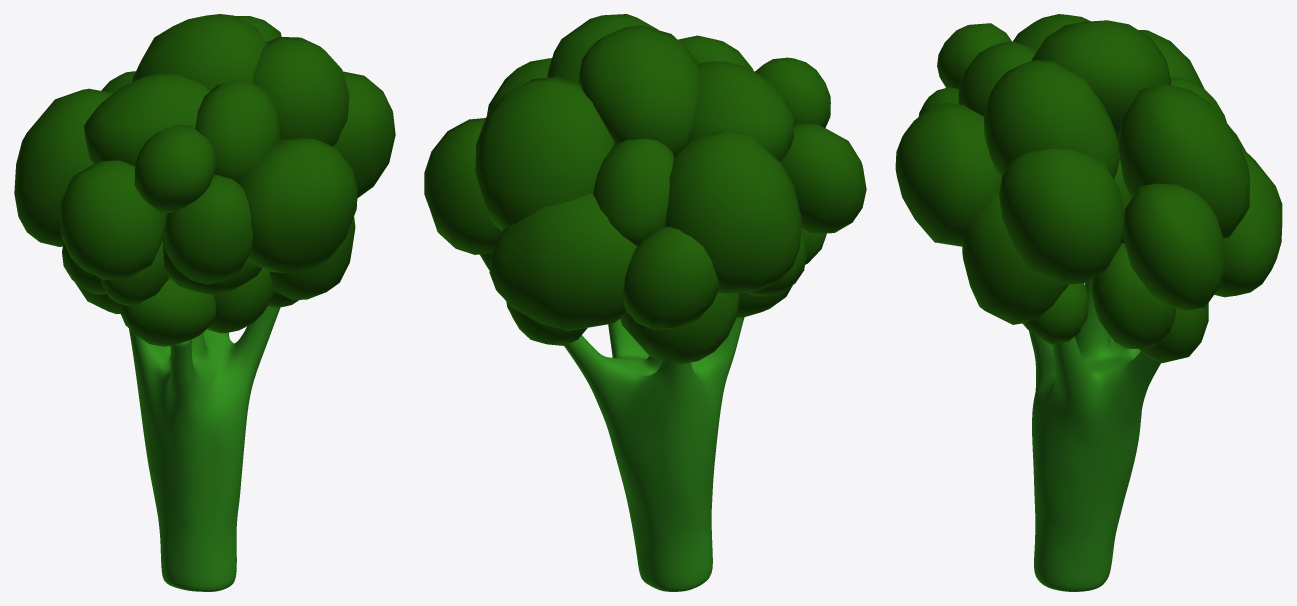
Rendered from Brócolis.gltf.
The picture shows the model from 3 angles, left to right: view 1: azimuth 30°, elevation 25°; view 2: azimuth 150°, elevation 25°; view 3: azimuth 270°, elevation 25°; orthographic projection. The views are drawn at different scales.
Visible parts, largest first — view 1: Roundcube.001, Circle; view 2: Roundcube.001, Circle; view 3: Roundcube.001, Circle.
Part boxes in pixels (x1,y1,x2,y2): Roundcube.001: (14, 14, 395, 346); Circle: (129, 306, 280, 591); Roundcube.001: (424, 14, 866, 364); Circle: (564, 317, 744, 591); Roundcube.001: (895, 14, 1282, 363); Circle: (1029, 279, 1160, 591).
Size of the model in its own units: 0.3397 by 0.503 by 0.3106.
